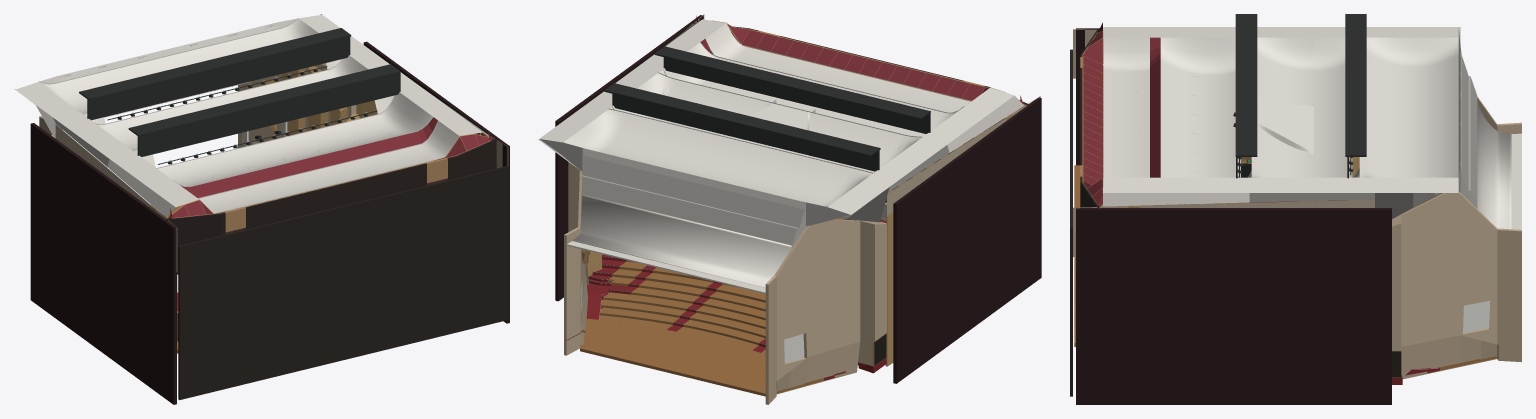
Rendered from hall.glb.
The picture shows the model from 3 angles, left to right: view 1: azimuth 30°, elevation 25°; view 2: azimuth 150°, elevation 25°; view 3: azimuth 270°, elevation 25°; orthographic projection. The views are drawn at different scales.
Parts seen in each view (by area): view 1: bake_ceiling, bake_lowroom, bake_walls; view 2: bake_ceiling, bake_walls, bake_floor1, bake_carpet, bake_trim, bake_scrim; view 3: bake_walls, bake_ceiling, bake_lowroom, bake_scrim, bake_floor1.
Boxes of the visible parts, bbox=[...] form: bake_ceiling: bbox=[14, 14, 494, 218]; bake_lowroom: bbox=[177, 165, 509, 400]; bake_walls: bbox=[30, 41, 509, 404]; bake_ceiling: bbox=[538, 16, 1026, 287]; bake_walls: bbox=[555, 14, 1041, 404]; bake_floor1: bbox=[580, 218, 855, 396]; bake_carpet: bbox=[586, 219, 886, 380]; bake_trim: bbox=[588, 150, 954, 362]; bake_scrim: bbox=[581, 279, 804, 362]; bake_walls: bbox=[1073, 28, 1521, 404]; bake_ceiling: bbox=[1082, 14, 1511, 229]; bake_lowroom: bbox=[1070, 49, 1072, 396]; bake_scrim: bbox=[1463, 300, 1490, 332]; bake_floor1: bbox=[1074, 165, 1497, 370].
Bounding box in the file's own units: 29.86 × 17.64 × 31.45.
61 materials, 7 textured.
